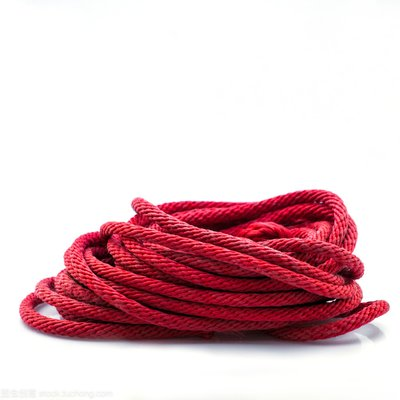9/可回收垃圾/绳子: (18, 188, 391, 343)
